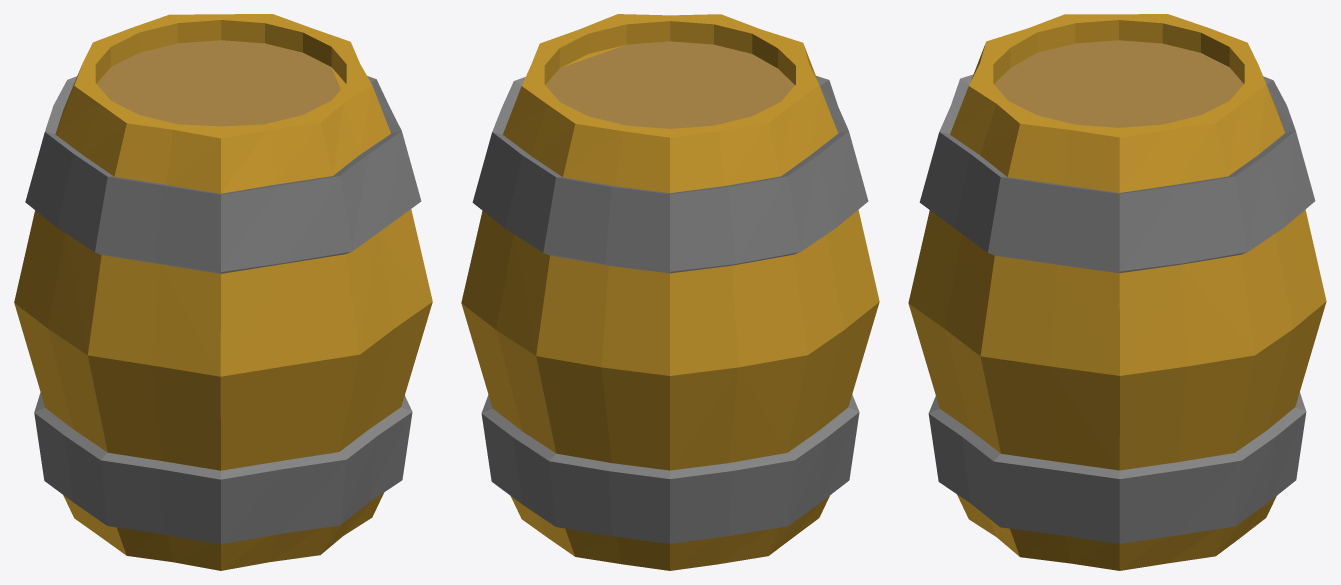
File: barrel_textured.fbx
3 views of the same model, side by side, from view 1: azimuth 30°, elevation 25°; view 2: azimuth 150°, elevation 25°; view 3: azimuth 270°, elevation 25° (orthographic).
Visible parts, largest first — view 1: Barrel; view 2: Barrel; view 3: Barrel.
Part boxes in pixels (bbox=[...]): Barrel: bbox=[14, 14, 432, 570]; Barrel: bbox=[461, 14, 879, 570]; Barrel: bbox=[908, 14, 1326, 570].
Bounding box in the file's own units: 61.93 × 71.79 × 62.77.
